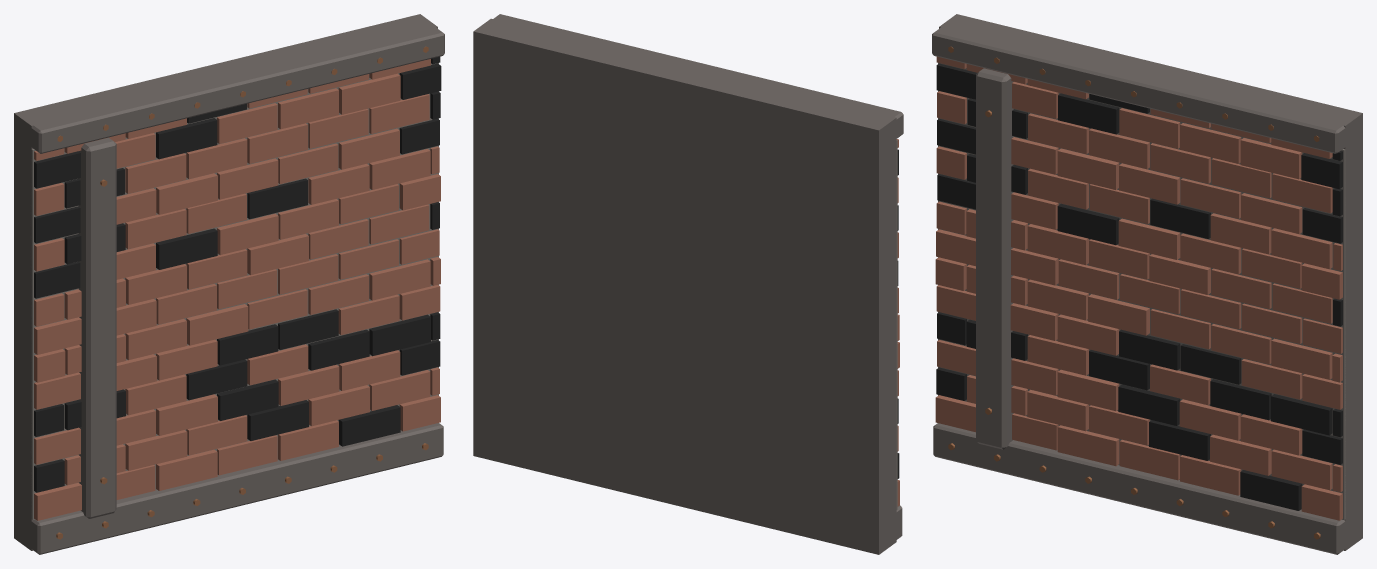
Rendered from wall_wk_brick.glb.
3 renders of one model, left to right at view 1: azimuth 30°, elevation 25°; view 2: azimuth 150°, elevation 25°; view 3: azimuth 330°, elevation 25°, orthographic.
Visible parts, largest first — view 1: wall_wk_brick; view 2: wall_wk_brick; view 3: wall_wk_brick.
Boxes of the visible parts, <box> form: wall_wk_brick: <box>14,14,444,554</box>; wall_wk_brick: <box>473,14,903,554</box>; wall_wk_brick: <box>932,14,1362,554</box>.
Size of the model in its own units: 4 by 4 by 0.505.
